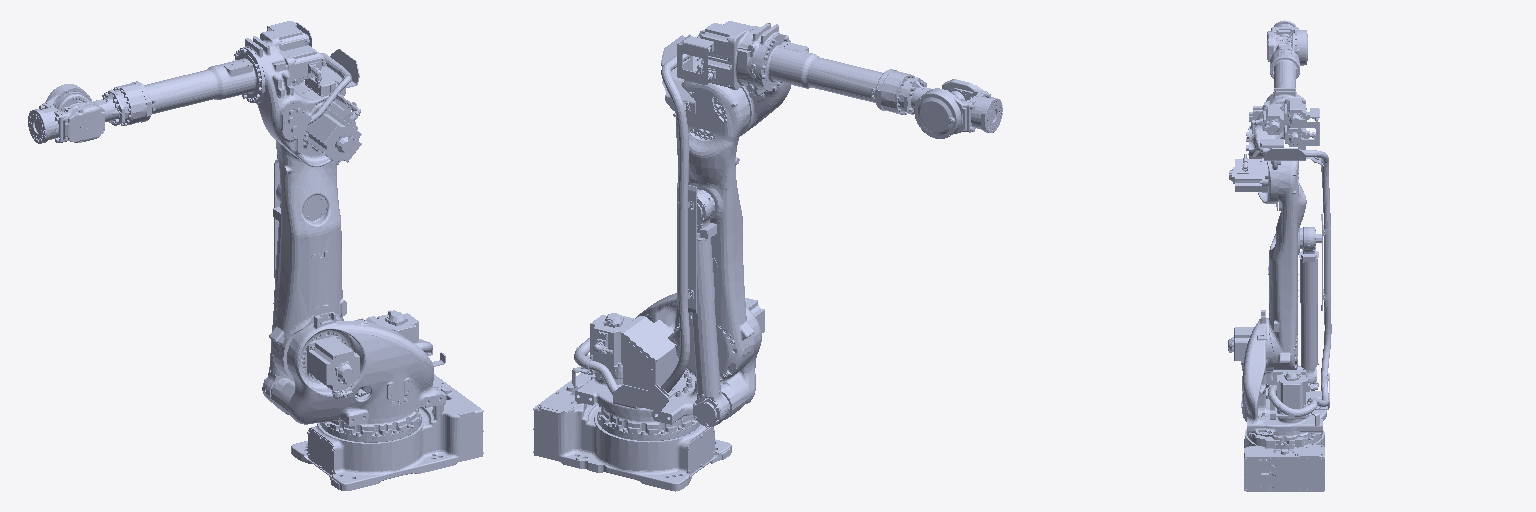
URDF robot description (gp180):
<?xml version="1.0" encoding="utf-8"?>
<!-- This URDF was automatically created by SolidWorks to URDF Exporter! Originally created by [author] ([email redacted]) 
     Commit Version: 1.6.0-4-g7f85cfe  Build Version: 1.6.7995.38578
     For more information, please see http://wiki.ros.org/sw_urdf_exporter -->
<robot
  name="gp180">
  <link
    name="base_link">
    <inertial>
      <origin
        xyz="0.0991766805236459 0.140762839389922 0.000246722079027381"
        rpy="0 0 0" />
      <mass
        value="81.4966501954822" />
      <inertia
        ixx="1.90799790936025"
        ixy="0.10921742260273"
        ixz="-0.00128396943611954"
        iyy="4.54845374686453"
        iyz="0.000794292539221916"
        izz="3.77883127250222" />
    </inertial>
    <visual>
      <origin
        xyz="0 0 0"
        rpy="0 0 0" />
      <geometry>
        <mesh
          filename="package://gp180/meshes/base_link.STL" />
      </geometry>
      <material
        name="">
        <color
          rgba="0.792156862745098 0.819607843137255 0.933333333333333 1" />
      </material>
    </visual>
    <collision>
      <origin
        xyz="0 0 0"
        rpy="0 0 0" />
      <geometry>
        <mesh
          filename="package://gp180/meshes/base_link.STL" />
      </geometry>
    </collision>
  </link>
  <link
    name="Empty_Link_1">
    <inertial>
      <origin
        xyz="0.0919915117003802 0.0615102587715189 0.174595417538863"
        rpy="0 0 0" />
      <mass
        value="49.1924104291229" />
      <inertia
        ixx="1.80267155728019"
        ixy="-0.458786462625734"
        ixz="-0.384891639933671"
        iyy="3.21657374577264"
        iyz="-0.366752519144428"
        izz="3.27188952047207" />
    </inertial>
    <visual>
      <origin
        xyz="0 0 0"
        rpy="0 0 0" />
      <geometry>
        <mesh
          filename="package://gp180/meshes/Empty_Link_1.STL" />
      </geometry>
      <material
        name="">
        <color
          rgba="0.792156862745098 0.819607843137255 0.933333333333333 1" />
      </material>
    </visual>
    <collision>
      <origin
        xyz="0 0 0"
        rpy="0 0 0" />
      <geometry>
        <mesh
          filename="package://gp180/meshes/Empty_Link_1.STL" />
      </geometry>
    </collision>
  </link>
  <joint
    name="joint1"
    type="revolute">
    <origin
      xyz="0 0 0.317"
      rpy="0 0 3.1416" />
    <parent
      link="base_link" />
    <child
      link="Empty_Link_1" />
    <axis
      xyz="0 0 1" />
    <limit
      lower="-3.1415"
      upper="3.1415"
      effort="1555"
      velocity="2.18" />
  </joint>
  <link
    name="Empty_Link_2">
    <inertial>
      <origin
        xyz="0.000689849067874337 -0.491143282638452 -0.107223510435478"
        rpy="0 0 0" />
      <mass
        value="74.1437830384373" />
      <inertia
        ixx="11.4154550572276"
        ixy="-0.0377028927520616"
        ixz="0.00205898121264436"
        iyy="0.695726622142989"
        iyz="-0.289481134667988"
        izz="11.5725632695022" />
    </inertial>
    <visual>
      <origin
        xyz="0 0 0"
        rpy="0 0 0" />
      <geometry>
        <mesh
          filename="package://gp180/meshes/Empty_Link_2.STL" />
      </geometry>
      <material
        name="">
        <color
          rgba="0.792156862745098 0.819607843137255 0.933333333333333 1" />
      </material>
    </visual>
    <collision>
      <origin
        xyz="0 0 0"
        rpy="0 0 0" />
      <geometry>
        <mesh
          filename="package://gp180/meshes/Empty_Link_2.STL" />
      </geometry>
    </collision>
  </link>
  <joint
    name="joint2"
    type="revolute">
    <origin
      xyz="0.325 0.07 0.333"
      rpy="-1.5708 0 0" />
    <parent
      link="Empty_Link_1" />
    <child
      link="Empty_Link_2" />
    <axis
      xyz="0 0 1" />
    <limit
      lower="-1.0747"
      upper="1.326"
      effort="1555"
      velocity="201" />
  </joint>
  <link
    name="Empty_Link_3">
    <inertial>
      <origin
        xyz="0.25864 -0.20282 0.0062269"
        rpy="0 0 0" />
      <mass
        value="51.994" />
      <inertia
        ixx="1.6039"
        ixy="1.0807"
        ixz="0.43868"
        iyy="5.1048"
        iyz="-0.43006"
        izz="5.6519" />
    </inertial>
    <visual>
      <origin
        xyz="0 0 0"
        rpy="0 0 0" />
      <geometry>
        <mesh
          filename="package://gp180/meshes/Empty_Link_3.STL" />
      </geometry>
      <material
        name="">
        <color
          rgba="0.79216 0.81961 0.93333 1" />
      </material>
    </visual>
    <collision>
      <origin
        xyz="0 0 0"
        rpy="0 0 0" />
      <geometry>
        <mesh
          filename="package://gp180/meshes/Empty_Link_3.STL" />
      </geometry>
    </collision>
  </link>
  <joint
    name="joint3"
    type="revolute">
    <origin
      xyz="0 -1.15 -0.0285"
      rpy="0 0 0" />
    <parent
      link="Empty_Link_2" />
    <child
      link="Empty_Link_3" />
    <axis
      xyz="0 0 1" />
    <limit
      lower="-1.5"
      upper="1.57"
      effort="1555"
      velocity="2.18" />
  </joint>
  <link
    name="Empty_Link_4">
    <inertial>
      <origin
        xyz="0.0134064319773667 3.79300779780323E-05 -0.131114372794393"
        rpy="0 0 0" />
      <mass
        value="3.16663423383513" />
      <inertia
        ixx="0.0232710701898888"
        ixy="1.27410731300378E-05"
        ixz="0.00294136058351374"
        iyy="0.0243519278810685"
        iyz="-2.23410209371814E-05"
        izz="0.00831945478383318" />
    </inertial>
    <visual>
      <origin
        xyz="0 0 0"
        rpy="0 0 0" />
      <geometry>
        <mesh
          filename="package://gp180/meshes/Empty_Link_4.STL" />
      </geometry>
      <material
        name="">
        <color
          rgba="0.792156862745098 0.819607843137255 0.933333333333333 1" />
      </material>
    </visual>
    <collision>
      <origin
        xyz="0 0 0"
        rpy="0 0 0" />
      <geometry>
        <mesh
          filename="package://gp180/meshes/Empty_Link_4.STL" />
      </geometry>
    </collision>
  </link>
  <joint
    name="joint4"
    type="revolute">
    <origin
      xyz="1.033 -0.3 -0.0415"
      rpy="3.1416 1.5708 0" />
    <parent
      link="Empty_Link_3" />
    <child
      link="Empty_Link_4" />
    <axis
      xyz="0 0 -1" />
    <limit
      lower="-6.283"
      upper="6.283"
      effort="1000"
      velocity="3.18" />
  </joint>
  <link
    name="Empty_Link_5">
    <inertial>
      <origin
        xyz="-0.0532968305752841 -2.03724286329532E-07 -0.0481897305844847"
        rpy="0 0 0" />
      <mass
        value="5.94267388138655" />
      <inertia
        ixx="0.0528282098726763"
        ixy="-4.41892168048376E-08"
        ixz="-0.0103908856569453"
        iyy="0.0787549283003692"
        iyz="8.04376160149887E-08"
        izz="0.0517599232967381" />
    </inertial>
    <visual>
      <origin
        xyz="0 0 0"
        rpy="0 0 0" />
      <geometry>
        <mesh
          filename="package://gp180/meshes/Empty_Link_5.STL" />
      </geometry>
      <material
        name="">
        <color
          rgba="0.792156862745098 0.819607843137255 0.933333333333333 1" />
      </material>
    </visual>
    <collision>
      <origin
        xyz="0 0 0"
        rpy="0 0 0" />
      <geometry>
        <mesh
          filename="package://gp180/meshes/Empty_Link_5.STL" />
      </geometry>
    </collision>
  </link>
  <joint
    name="joint5"
    type="revolute">
    <origin
      xyz="0.074 0 -0.192"
      rpy="0 -1.5708 3.14159" />
    <parent
      link="Empty_Link_4" />
    <child
      link="Empty_Link_5" />
    <axis
      xyz="0 0 -1" />
    <limit
      lower="-2.269"
      upper="2.269"
      effort="1000"
      velocity="3.05" />
  </joint>
  <link
    name="Empty_Link_6">
    <inertial>
      <origin
        xyz="-0.00107402465584735 -4.30187608291277E-06 0.0120027840854047"
        rpy="0 0 0" />
      <mass
        value="0.44417028263965" />
      <inertia
        ixx="0.000783097884722136"
        ixy="9.20718731565828E-08"
        ixz="-1.78404370514858E-06"
        iyy="0.000741359939856679"
        iyz="2.61612818057647E-08"
        izz="0.00147839257990755" />
    </inertial>
    <visual>
      <origin
        xyz="0 0 0"
        rpy="0 0 0" />
      <geometry>
        <mesh
          filename="package://gp180/meshes/Empty_Link_6.STL" />
      </geometry>
      <material
        name="">
        <color
          rgba="0.792156862745098 0.819607843137255 0.933333333333333 1" />
      </material>
    </visual>
    <collision>
      <origin
        xyz="0 0 0"
        rpy="0 0 0" />
      <geometry>
        <mesh
          filename="package://gp180/meshes/Empty_Link_6.STL" />
      </geometry>
    </collision>
  </link>
  <joint
    name="joint6"
    type="revolute">
    <origin
      xyz="-0.1995 0 -0.074"
      rpy="3.1416 -1.5708 3.146" />
    <parent
      link="Empty_Link_5" />
    <child
      link="Empty_Link_6" />
    <axis
      xyz="0 0 1" />
    <limit
      lower="-6.283"
      upper="6.283"
      effort="618"
      velocity="4.63" />
  </joint>
</robot>

--- Render facts (derived) ---
Views: 3 orthographic renders of the robot side by side, from view 1: azimuth 30°, elevation 25°; view 2: azimuth 150°, elevation 25°; view 3: azimuth 270°, elevation 25°.
Robot: gp180 — 7 links, 6 joints (6 revolute); root link base_link; default pose: every joint at zero.
Links seen in each view (by area): view 1: Empty_Link_3, Empty_Link_1, Empty_Link_2, base_link, Empty_Link_5, Empty_Link_4, Empty_Link_6; view 2: Empty_Link_2, Empty_Link_3, Empty_Link_1, base_link, Empty_Link_5, Empty_Link_6, Empty_Link_4; view 3: Empty_Link_2, Empty_Link_3, Empty_Link_1, base_link, Empty_Link_5.
Boxes of the visible links, bbox=[...] form: Empty_Link_3: bbox=[113, 21, 361, 166]; Empty_Link_1: bbox=[271, 310, 445, 426]; Empty_Link_2: bbox=[262, 81, 346, 402]; base_link: bbox=[291, 374, 483, 490]; Empty_Link_5: bbox=[39, 84, 104, 142]; Empty_Link_4: bbox=[55, 89, 124, 125]; Empty_Link_6: bbox=[28, 109, 49, 143]; Empty_Link_2: bbox=[668, 72, 753, 427]; Empty_Link_3: bbox=[661, 21, 914, 135]; Empty_Link_1: bbox=[572, 293, 764, 424]; base_link: bbox=[533, 373, 731, 491]; Empty_Link_5: bbox=[914, 79, 990, 138]; Empty_Link_6: bbox=[981, 97, 1002, 132]; Empty_Link_4: bbox=[904, 77, 965, 114]; Empty_Link_2: bbox=[1268, 161, 1331, 384]; Empty_Link_3: bbox=[1229, 49, 1328, 210]; Empty_Link_1: bbox=[1228, 310, 1330, 435]; base_link: bbox=[1244, 429, 1324, 491]; Empty_Link_5: bbox=[1267, 24, 1307, 65].
Size in the robot's own frame: 2.26 by 0.6365 by 2.25 metres.
7 mesh visuals loaded from 7 distinct referenced files (7 binary STL).
